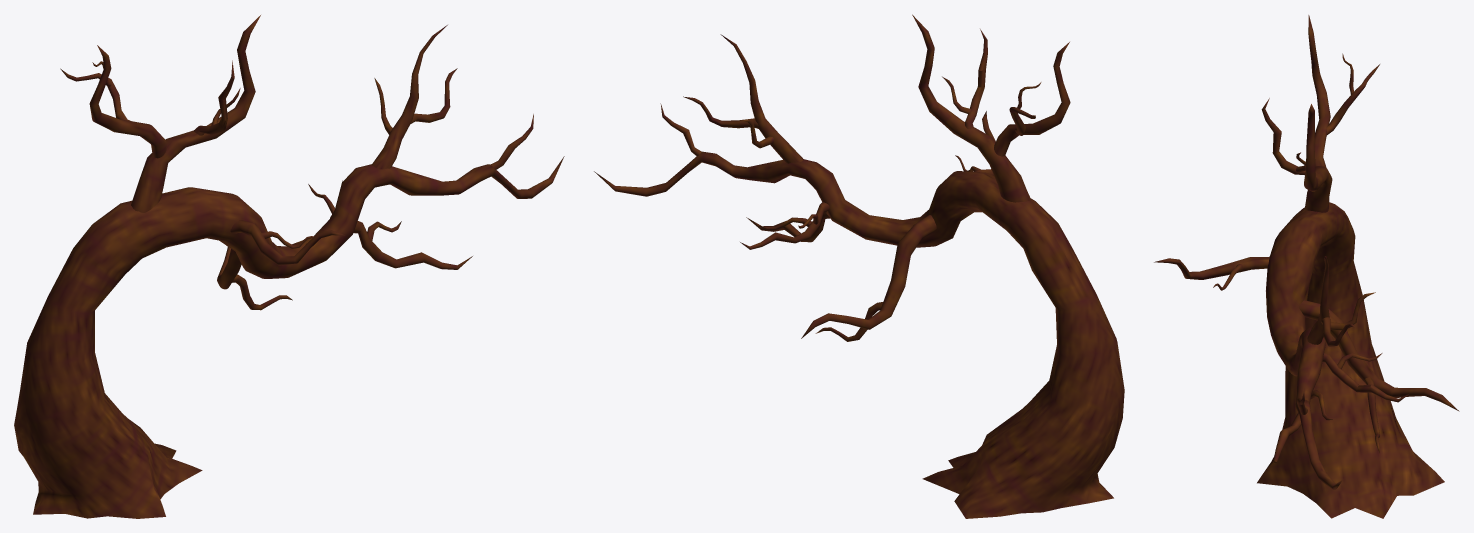
The model's file is tree.obj.
The picture shows the model from 3 angles, left to right: view 1: azimuth 30°, elevation 25°; view 2: azimuth 150°, elevation 25°; view 3: azimuth 270°, elevation 25°; orthographic projection. The views are drawn at different scales.
Parts seen in each view (by area): view 1: Skeletal_Tree_FREE; view 2: Skeletal_Tree_FREE; view 3: Skeletal_Tree_FREE.
Part boxes in pixels (box(x1,y1,x2,y2)): Skeletal_Tree_FREE: box(14, 15, 564, 518); Skeletal_Tree_FREE: box(594, 14, 1124, 518); Skeletal_Tree_FREE: box(1154, 15, 1459, 518).
Bounding box in the file's own units: 0.2341 × 0.1894 × 0.1172.
Materials: 1 (1 with a texture image).
